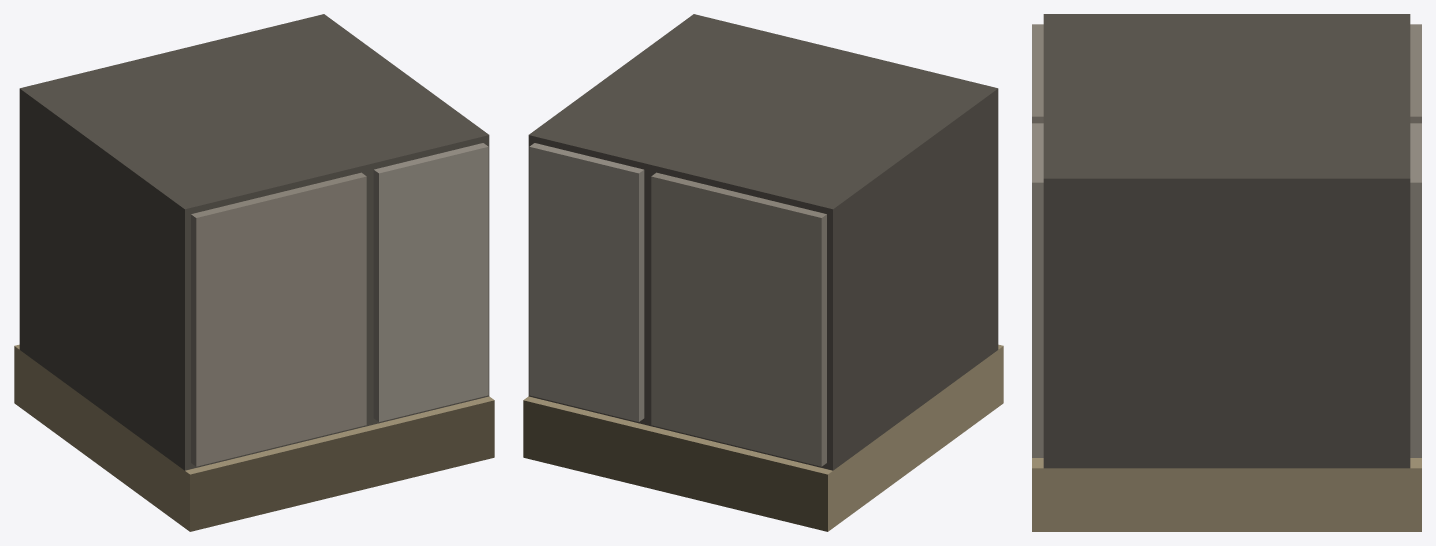
Rendered from terrain_ceiling.obj.
The picture shows the model from 3 angles, left to right: view 1: azimuth 30°, elevation 25°; view 2: azimuth 150°, elevation 25°; view 3: azimuth 270°, elevation 25°; orthographic projection. The views are drawn at different scales.
Parts seen in each view (by area): view 1: terrain_ceiling; view 2: terrain_ceiling; view 3: terrain_ceiling.
Part boxes in pixels (box(x1,y1,x2,y2)): terrain_ceiling: box(14, 14, 494, 531); terrain_ceiling: box(523, 14, 1003, 531); terrain_ceiling: box(1032, 14, 1421, 531).
Size of the model in its own units: 1 by 1 by 1.
Materials: 1 (1 with a texture image).
